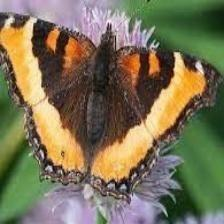butterfly: (0, 13, 221, 202)
